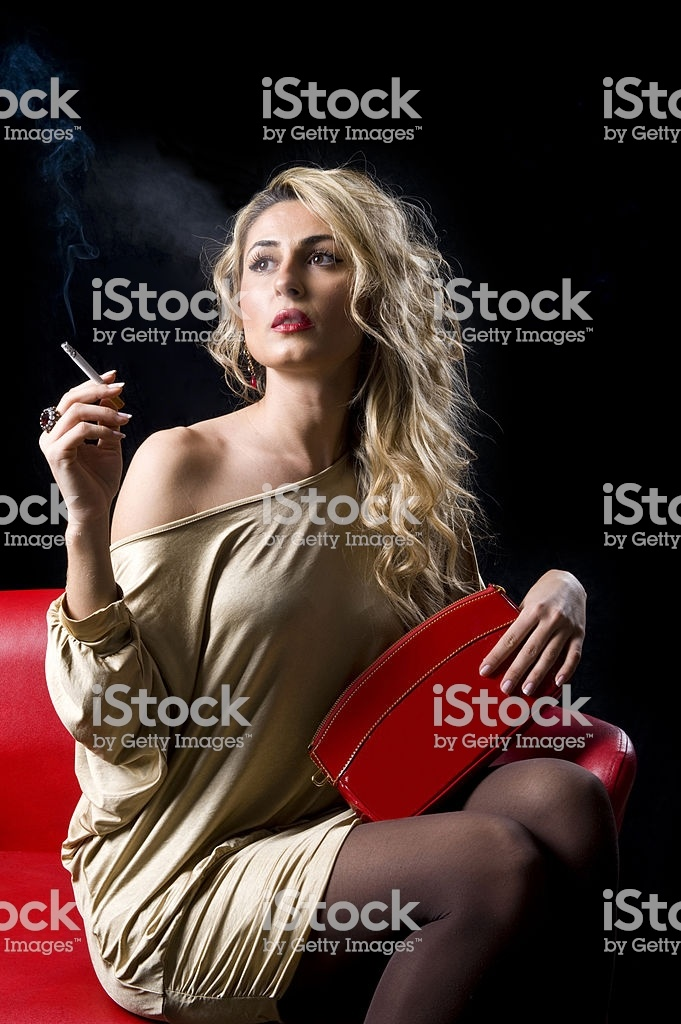sigaretta: (55, 341, 111, 395)
